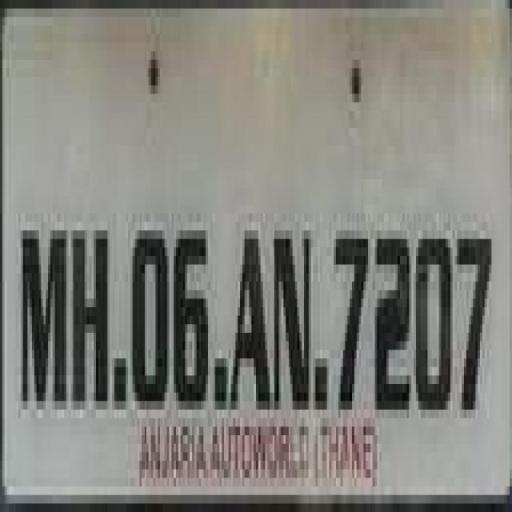number plate: (16, 34, 512, 487)
